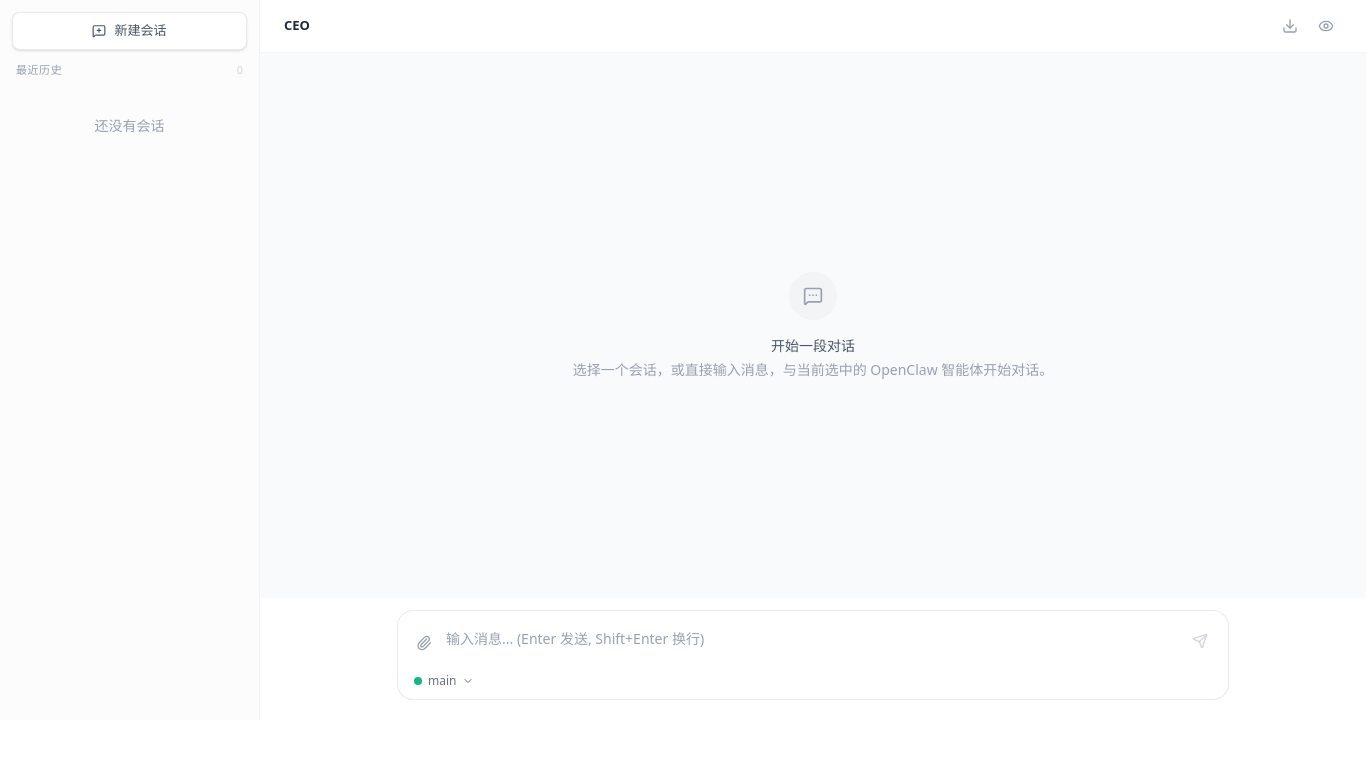
Test: ChatPage › shows slash command suggestions from the draft
The width and height of the screenshot is (1366, 768).
Type "/he" into the text box with placeholder "输入消息... (Enter 发送, Shift+Enter 换行)" at (811, 639), box [446,619,1176,659]
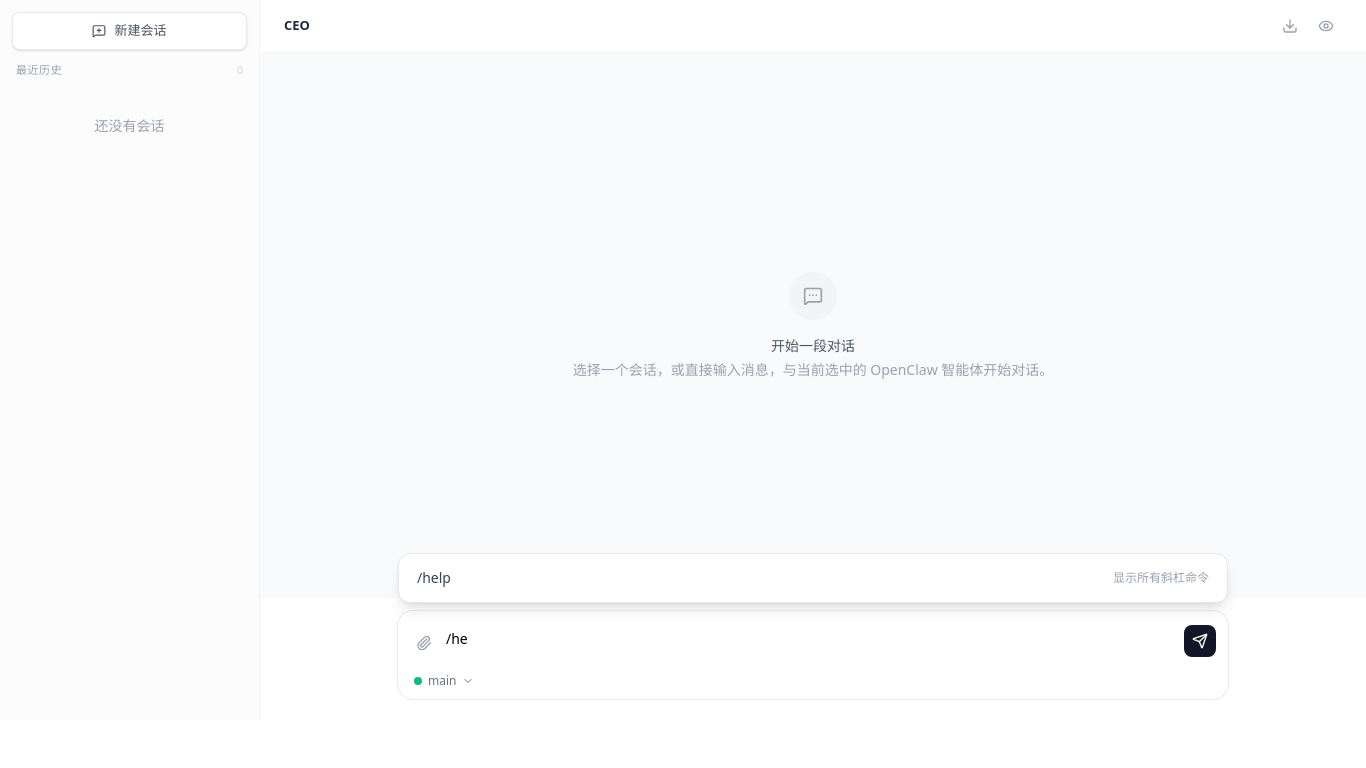
Check: the text "/help" is shown, box [417,568,451,588]
